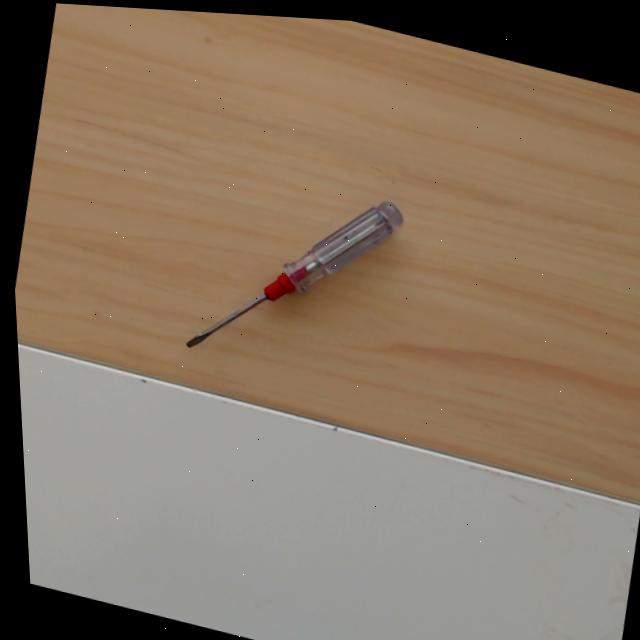Obeng-Kecil: (179, 195, 408, 364)
